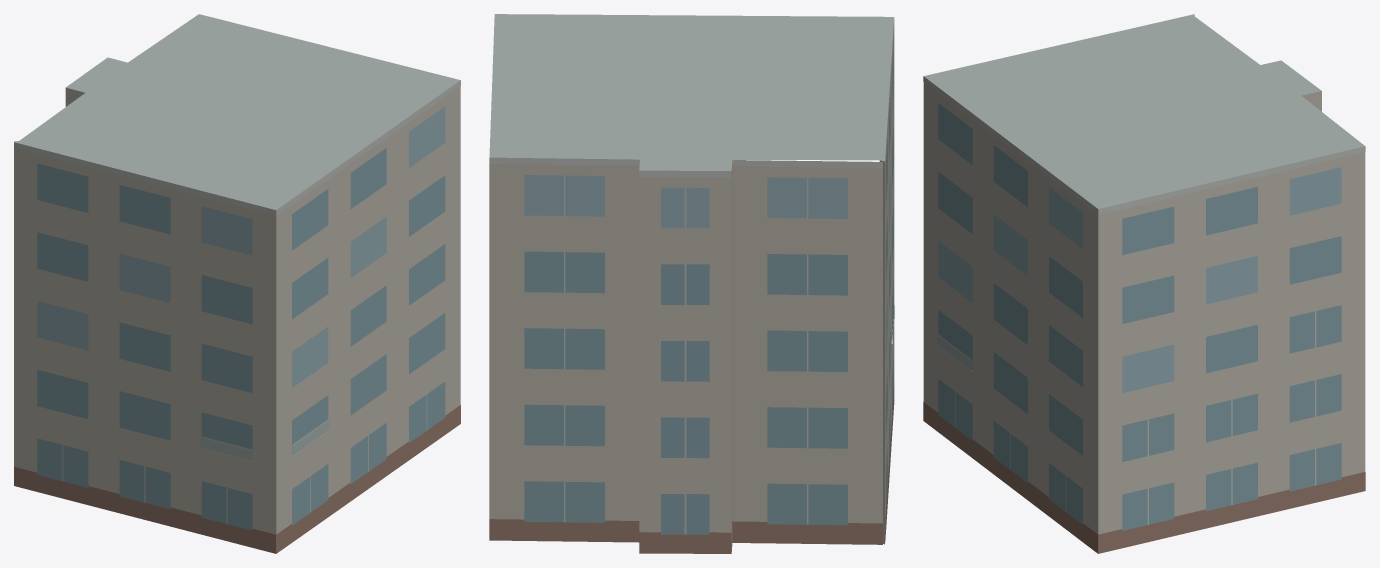
File: survey-upis-33044042.glb
3 renders of one model, left to right at view 1: azimuth 30°, elevation 25°; view 2: azimuth 150°, elevation 25°; view 3: azimuth 270°, elevation 25°, orthographic. The views are drawn at different scales.
Visible parts, largest first — view 1: survey-upis-33044042.tmp; view 2: survey-upis-33044042.tmp; view 3: survey-upis-33044042.tmp.
Boxes of the visible parts, box(x1,y1,x2,y2) form: survey-upis-33044042.tmp: box(14, 14, 460, 553); survey-upis-33044042.tmp: box(489, 14, 894, 553); survey-upis-33044042.tmp: box(923, 14, 1365, 553).
Size of the model in its own units: 17.66 by 14.54 by 16.9.
